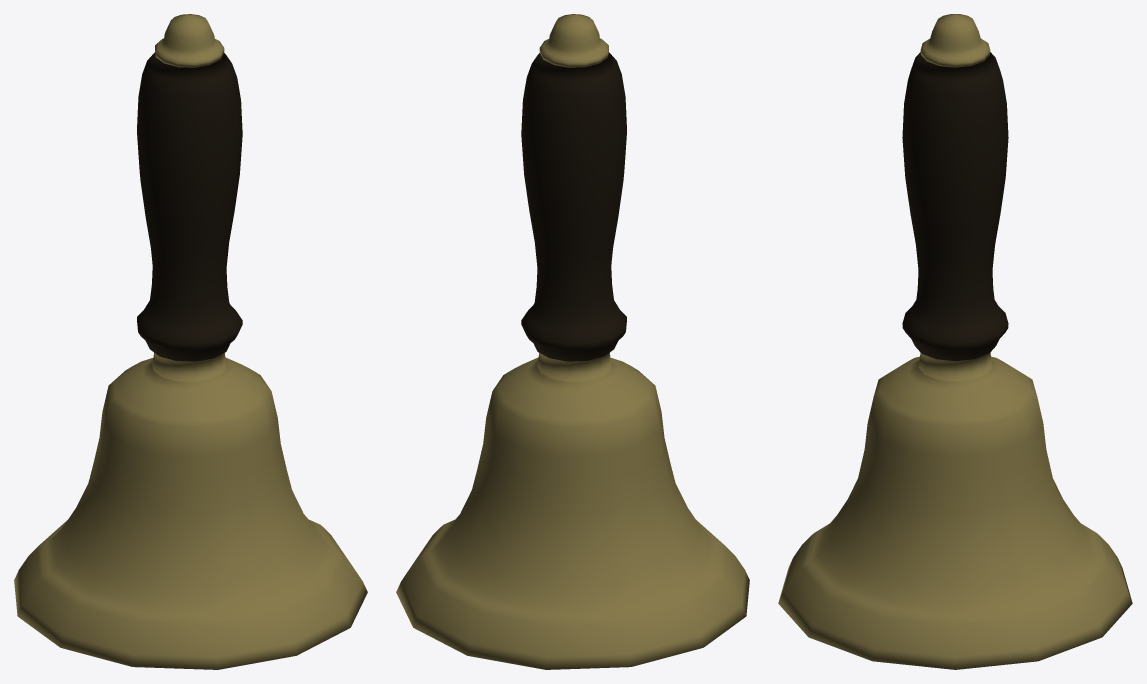
3 renders of one model, left to right at view 1: azimuth 30°, elevation 25°; view 2: azimuth 150°, elevation 25°; view 3: azimuth 270°, elevation 25°, orthographic.
Parts seen in each view (by area): view 1: Vert; view 2: Vert; view 3: Vert.
Boxes of the visible parts, x1=… form: Vert: x1=14, y1=14, x2=367, y2=669; Vert: x1=396, y1=14, x2=749, y2=669; Vert: x1=778, y1=14, x2=1132, y2=669.
Bounding box in the file's own units: 1469 × 2668 × 1480.
